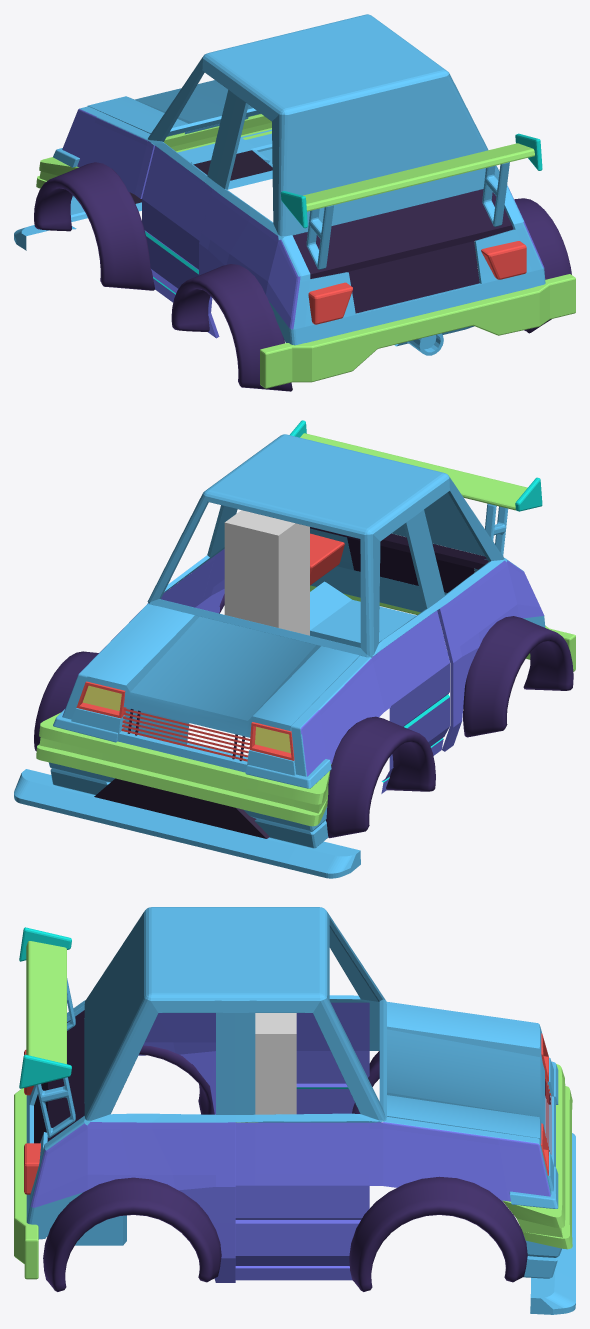
File: mobil.glb
3 views of the same model, one above another, from view 1: azimuth 30°, elevation 25°; view 2: azimuth 150°, elevation 25°; view 3: azimuth 270°, elevation 25° (orthographic). The views are drawn at different scales.
Visible parts, largest first — view 1: Cube, Cube.013, Cube.008, Cylinder.002, Cylinder.001, Cube.018, Cube.019, Cube.010, Cube.002, Cube.007, Cube.012, Backup (+4 smaller); view 2: Cube, Cube.002, Backup, Cylinder.001, Cube.021, Cube.003, Cube.018, Cylinder.002, Cube.019, Cube.006, Cube.013, Cube.009 (+12 smaller); view 3: Cube, Cube.018, Cube.002, Cube.019, Cylinder.002, Cylinder.001, Cube.010, Cube.003, Backup, Cube.008, Cube.013, Cube.021 (+7 smaller).
Boxes of the visible parts, left/top/right/bottom form: Cube: left=147, top=14, right=545, bottom=345; Cube.013: left=293, top=189, right=513, bottom=313; Cube.008: left=260, top=274, right=575, bottom=388; Cylinder.002: left=171, top=198, right=571, bottom=391; Cylinder.001: left=34, top=162, right=154, bottom=290; Cube.018: left=142, top=146, right=212, bottom=302; Cube.019: left=62, top=106, right=154, bottom=198; Cube.010: left=303, top=143, right=534, bottom=211; Cube.002: left=87, top=80, right=252, bottom=133; Cube.007: left=308, top=241, right=526, bottom=324; Cube.012: left=306, top=162, right=509, bottom=269; Backup: left=36, top=114, right=271, bottom=188; Cube: left=147, top=434, right=545, bottom=751; Cube.002: left=87, top=606, right=359, bottom=737; Backup: left=36, top=712, right=331, bottom=826; Cylinder.001: left=34, top=651, right=435, bottom=838; Cube.021: left=14, top=769, right=360, bottom=878; Cube.003: left=224, top=510, right=309, bottom=635; Cube.018: left=161, top=556, right=449, bottom=793; Cylinder.002: left=219, top=594, right=573, bottom=737; Cube.019: left=62, top=603, right=390, bottom=776; Cube.006: left=94, top=778, right=269, bottom=838; Cube.013: left=310, top=527, right=488, bottom=592; Cube.009: left=310, top=581, right=416, bottom=657; Cube: left=26, top=907, right=386, bottom=1282; Cube.018: left=235, top=1002, right=369, bottom=1280; Cube.002: left=387, top=1005, right=544, bottom=1143; Cube.019: left=369, top=1002, right=551, bottom=1201; Cylinder.002: left=43, top=1045, right=221, bottom=1291; Cylinder.001: left=349, top=1051, right=527, bottom=1291; Cube.010: left=26, top=941, right=66, bottom=1064; Cube.003: left=236, top=1013, right=296, bottom=1122; Backup: left=502, top=1064, right=572, bottom=1249; Cube.008: left=14, top=1088, right=38, bottom=1279; Cube.013: left=34, top=1010, right=84, bottom=1143; Cube.021: left=530, top=1133, right=575, bottom=1314.
Size of the model in its own units: 3.03 by 2.14 by 3.96.
